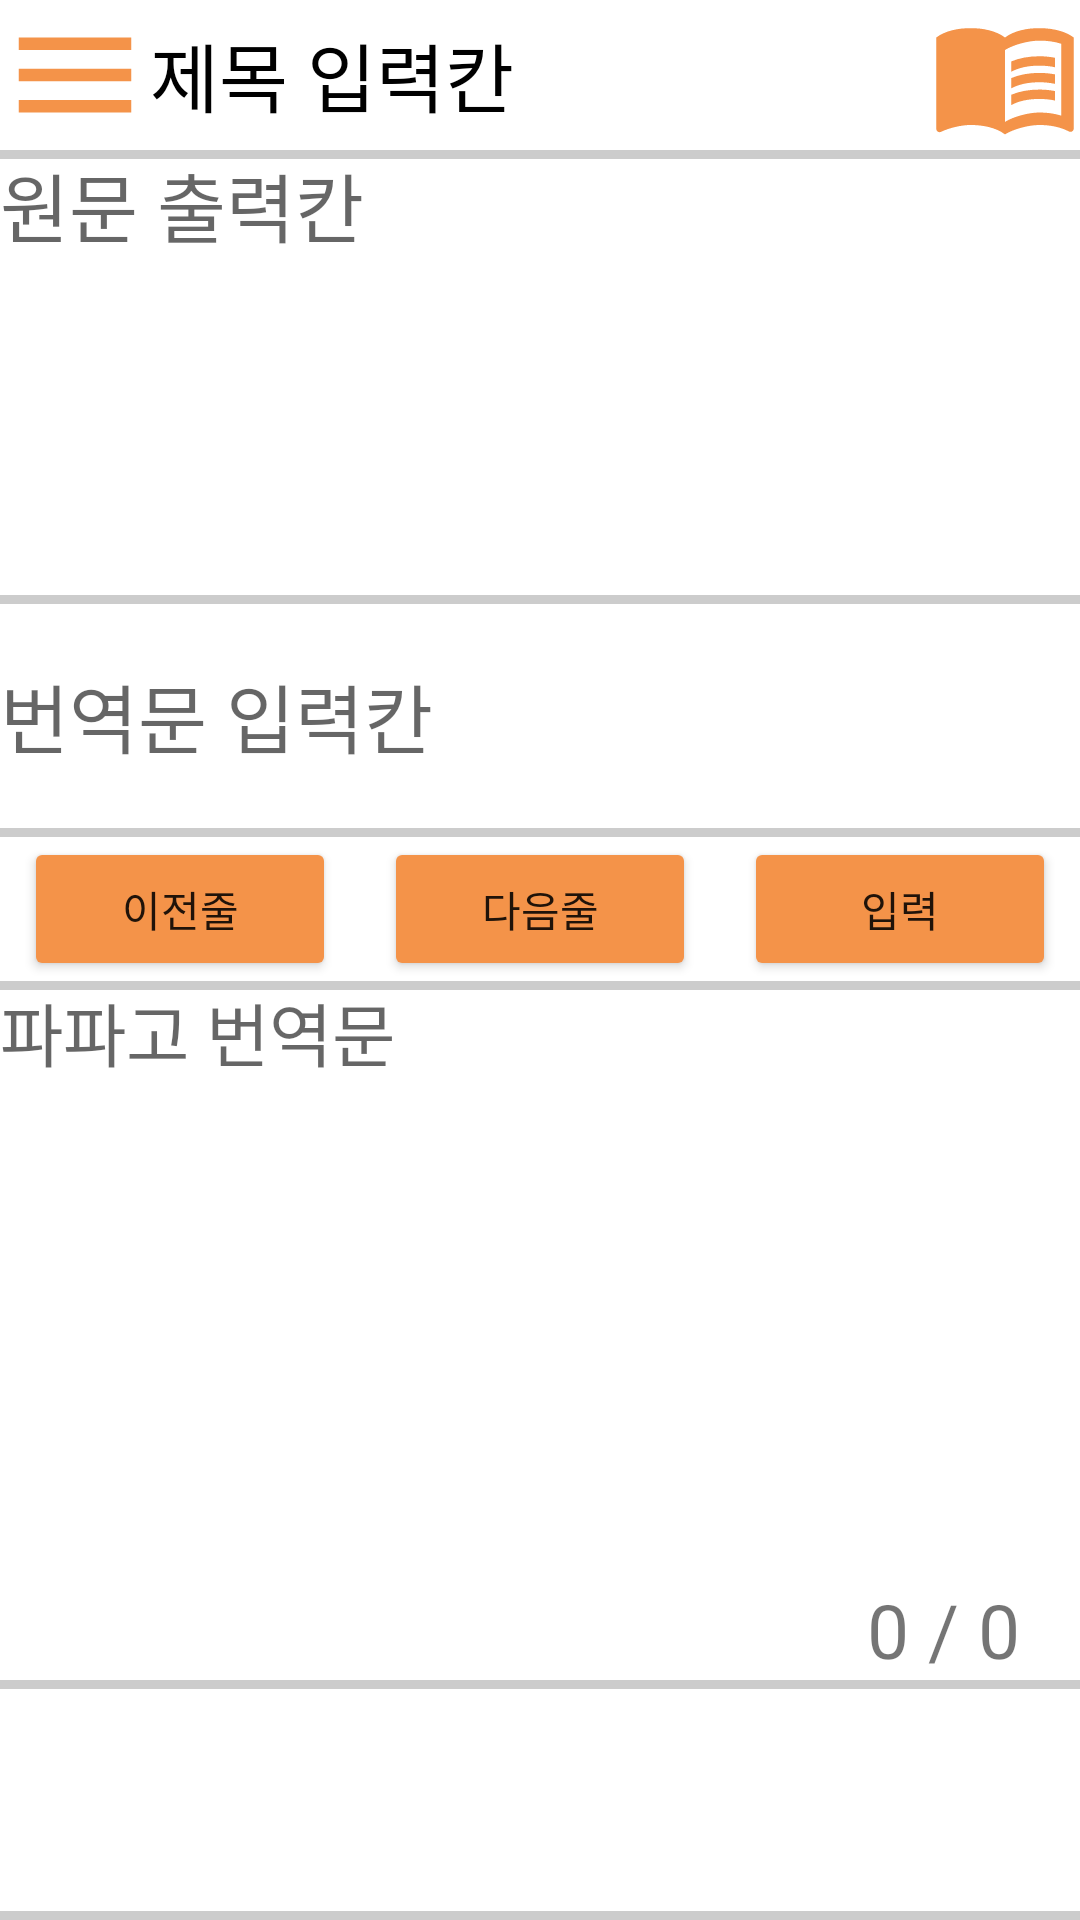

Locate icon controls on the screen. Image size 1080 x 1920, boxes as rect(x1, y1, x2, y2).
book: rect(936, 28, 1074, 134)
menu: rect(18, 37, 132, 113)
